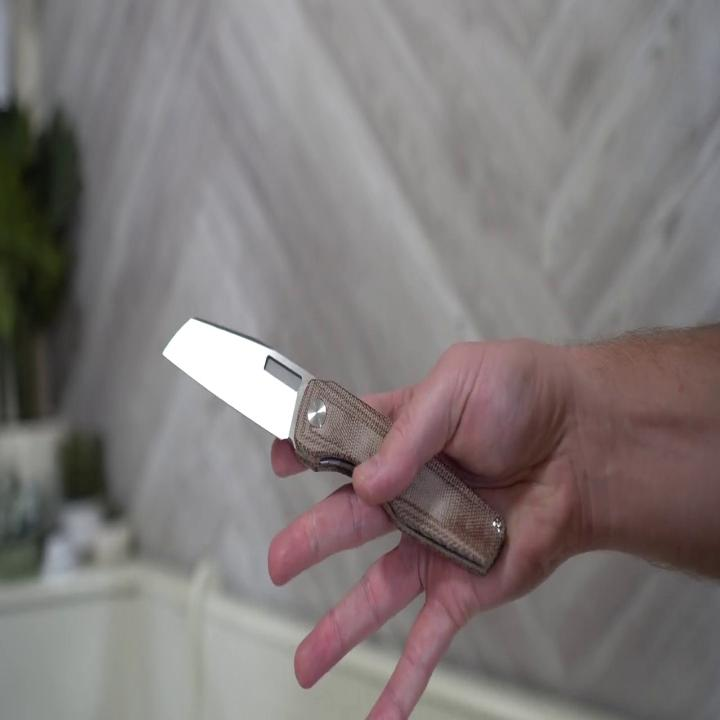knife: (158, 310, 511, 580)
